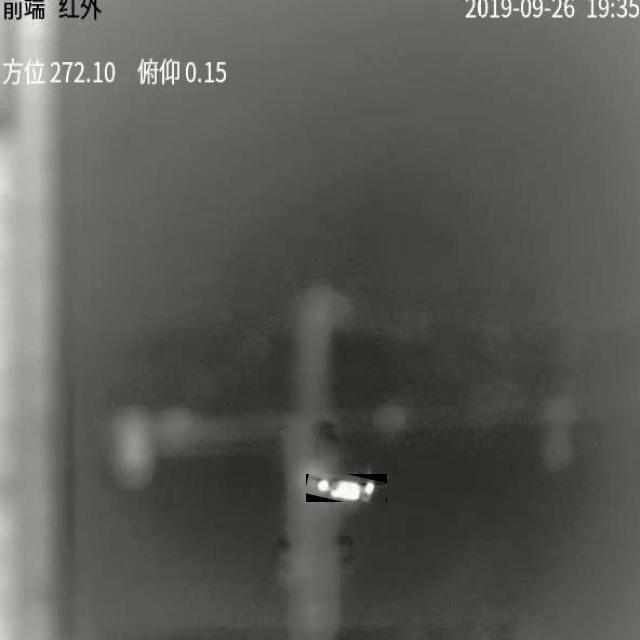drone: (308, 475, 387, 502)
